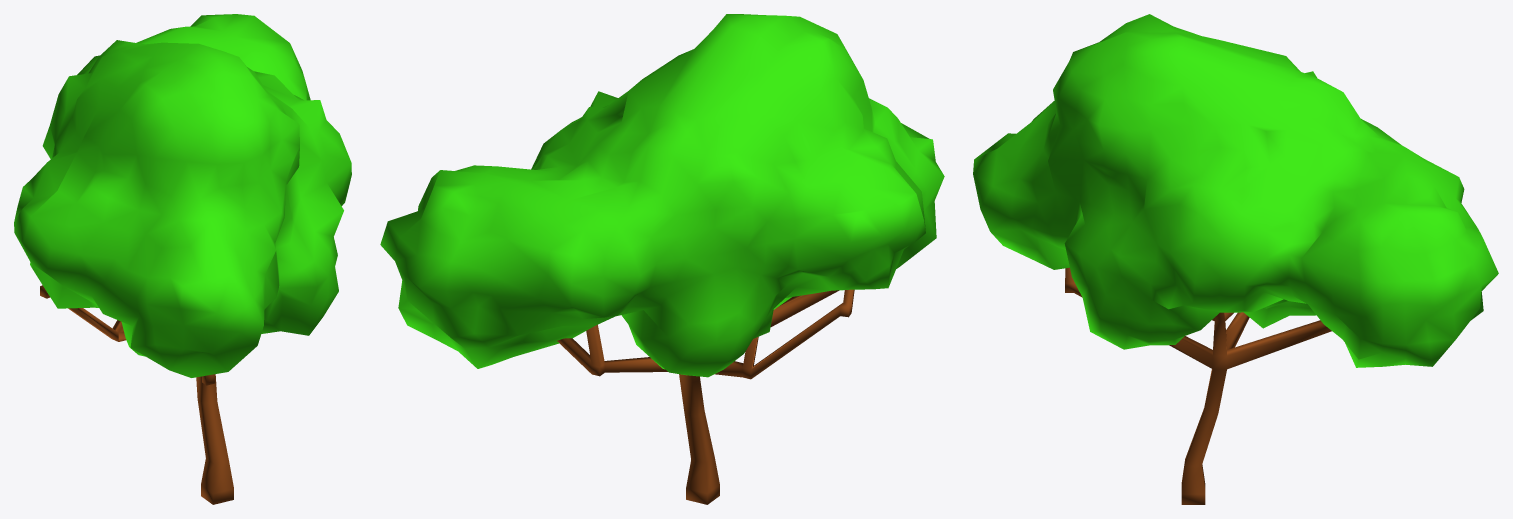
Rendered from SM_MangoTree_002_NoMango.fbx.
3 views of the same model, side by side, from view 1: azimuth 30°, elevation 25°; view 2: azimuth 150°, elevation 25°; view 3: azimuth 270°, elevation 25° (orthographic). The views are drawn at different scales.
Parts seen in each view (by area): view 1: MangoTree_02; view 2: MangoTree_02; view 3: MangoTree_02.
Part boxes in pixels (x1=…): MangoTree_02: x1=14, y1=14, x2=351, y2=504; MangoTree_02: x1=380, y1=14, x2=944, y2=504; MangoTree_02: x1=973, y1=14, x2=1498, y2=504.
Bounding box in the file's own units: 270 × 301 × 318.
